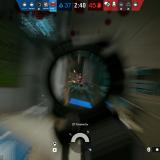Character: (76, 75, 84, 88)
Friend_label: (38, 94, 48, 100), (25, 150, 34, 156)
